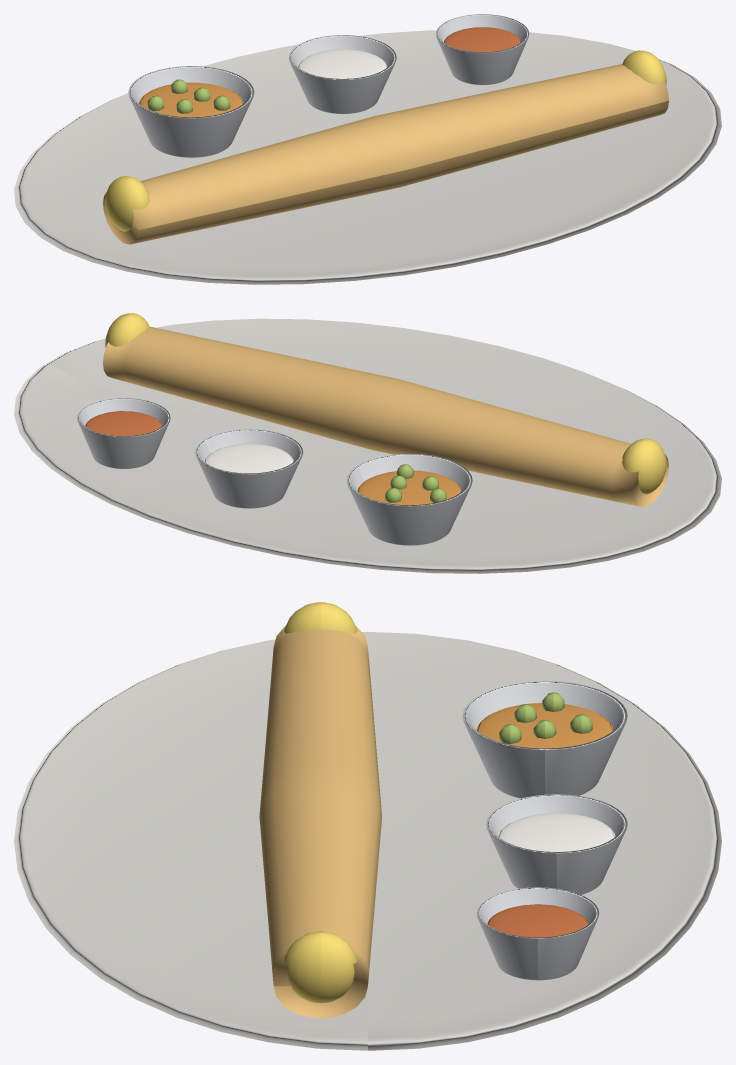
Rendered from masala-dosa.glb.
3 views of the same model, one above another, from view 1: azimuth 30°, elevation 25°; view 2: azimuth 150°, elevation 25°; view 3: azimuth 270°, elevation 25° (orthographic). The views are drawn at different scales.
Parts seen in each view (by area): view 1: masala-dosa; view 2: masala-dosa; view 3: masala-dosa.
Boxes of the visible parts, box(x1,y1,x2,y2) form: masala-dosa: box(14, 14, 721, 284); masala-dosa: box(14, 313, 721, 573); masala-dosa: box(14, 602, 721, 1050).
Size of the model in its own units: 0.42 by 0.042 by 0.3.
